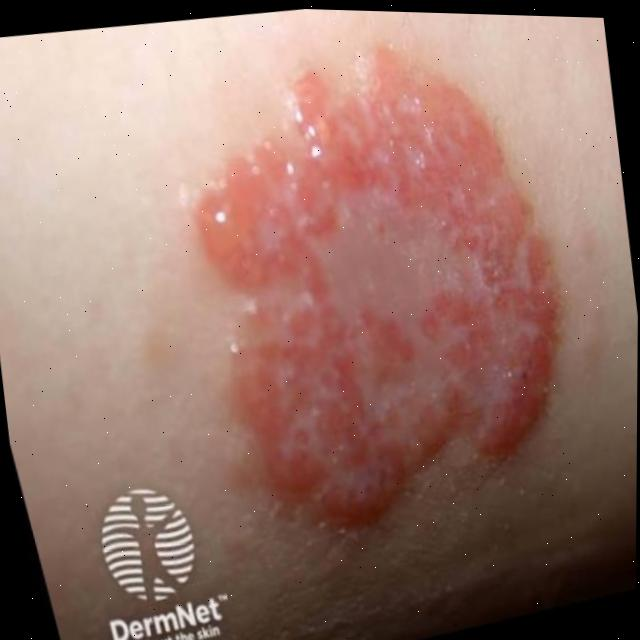Eczema: (176, 14, 600, 568)
